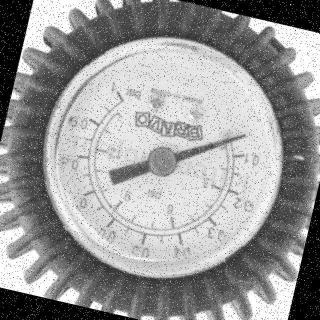gauge: (0, 0, 320, 320), (210, 112, 260, 162), (101, 74, 143, 118), (143, 142, 182, 180), (237, 129, 249, 141)
